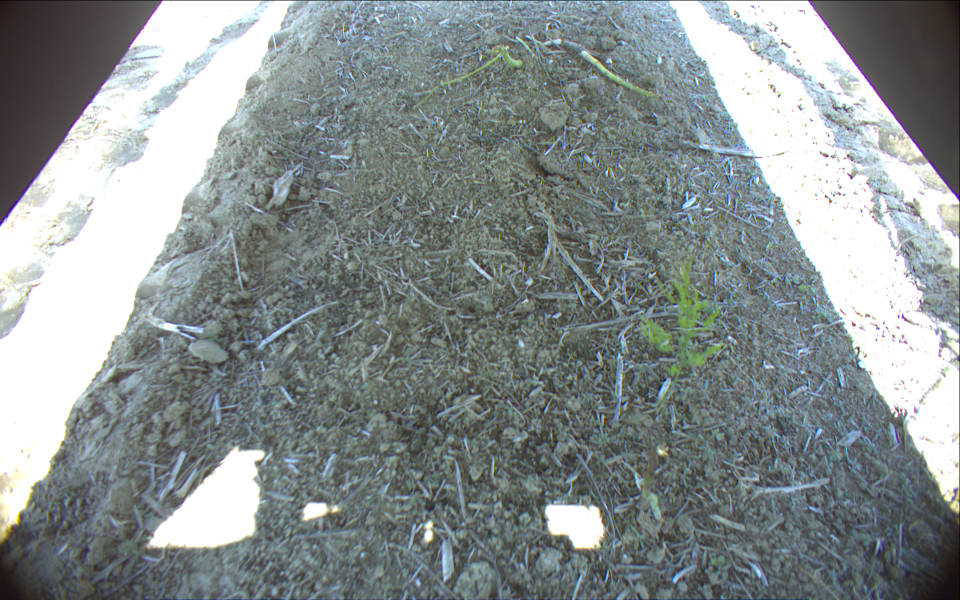aspa: (414, 51, 500, 110), (581, 51, 662, 98), (499, 46, 523, 68)
